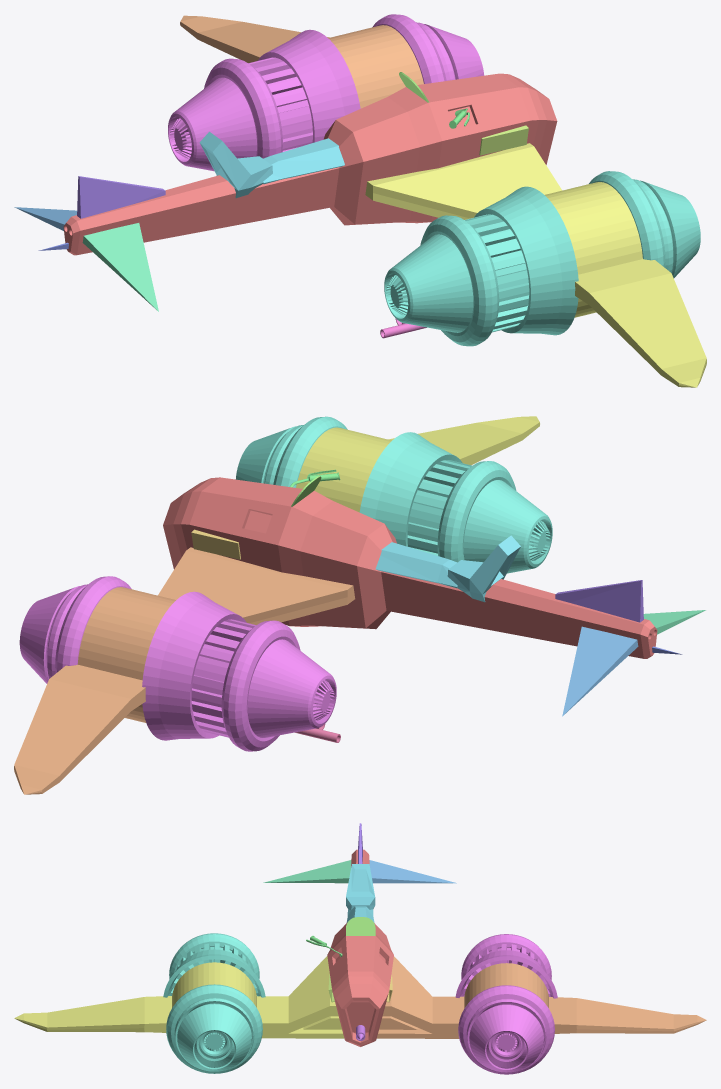
File: space_jet_r.glb
3 views of the same model, one above another, from view 1: azimuth 30°, elevation 25°; view 2: azimuth 150°, elevation 25°; view 3: azimuth 270°, elevation 25° (orthographic). The views are drawn at different scales.
Visible parts, largest first — view 1: Part_0, Part_8, Part_3, Part_14, Part_1, Part_9, Part_7, Part_12, Part_4, Part_10; view 2: Part_0, Part_14, Part_1, Part_8, Part_3, Part_9, Part_10, Part_12, Part_2, Part_7; view 3: Part_1, Part_3, Part_8, Part_14, Part_0, Part_9, Part_10, Part_7, Part_5.
Boxes of the visible parts, <box> form: Part_0: <box>63,73,557,255</box>; Part_8: <box>384,171,700,346</box>; Part_3: <box>365,143,706,387</box>; Part_14: <box>168,14,484,171</box>; Part_1: <box>180,15,423,108</box>; Part_9: <box>199,131,344,198</box>; Part_7: <box>82,223,158,311</box>; Part_12: <box>77,176,165,218</box>; Part_4: <box>479,125,528,155</box>; Part_10: <box>14,207,77,230</box>; Part_0: <box>163,477,657,658</box>; Part_14: <box>19,576,336,751</box>; Part_1: <box>14,547,355,794</box>; Part_8: <box>235,416,552,573</box>; Part_3: <box>296,416,539,512</box>; Part_9: <box>375,535,520,602</box>; Part_10: <box>562,626,638,716</box>; Part_12: <box>555,580,643,622</box>; Part_2: <box>191,529,240,559</box>; Part_7: <box>643,610,705,634</box>; Part_1: <box>376,956,706,1038</box>; Part_3: <box>14,956,344,1038</box>; Part_8: <box>163,933,265,1073</box>; Part_14: <box>455,934,557,1074</box>; Part_0: <box>327,849,393,1046</box>; Part_9: <box>346,864,375,922</box>; Part_10: <box>369,860,456,883</box>; Part_7: <box>263,860,351,883</box>; Part_5: <box>346,917,375,935</box>.
Bounding box in the file's own units: 1.21 × 0.3926 × 1.99.
